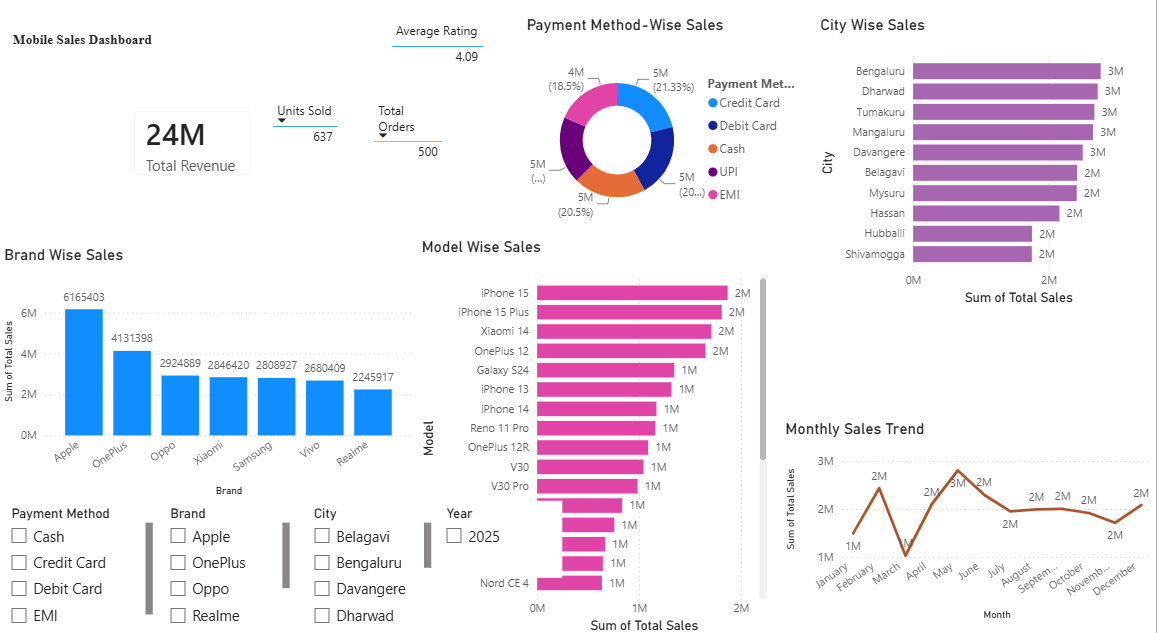

The dashboard page shown, as its layout file describes it:
{"tool":"powerbi","page":{"name":"Page 1","canvas":[1280,720],"ordinal":0},"visuals":[{"type":"cardVisual","fields":{"Data":["Sum(Sales.Total Sales)"]},"box":[216.7,20,177.8,104.4],"z":0},{"type":"tableEx","fields":{"Values":["Sum(Sales.Quantity)"]},"box":[377.8,124.4,78.9,78.9],"z":1000},{"type":"tableEx","fields":{"Values":["Sales.Sale ID"]},"box":[467.8,124.4,90,78.9],"z":2000},{"type":"tableEx","fields":{"Values":["Avg(Sales.Rating)"]},"box":[433.3,0,124.4,100],"z":3000},{"type":"clusteredColumnChart","title":"Brand Wise Sales ","fields":{"Category":["Sales.Brand"],"Y":["Sum(Sales.Total Sales)"]},"box":[10,290,457.8,280],"z":4000},{"type":"lineChart","title":"Monthly Sales Trend","fields":{"Y":["Sum(Sales.Total Sales)"],"Category":["Sales.Date.Variation.Date Hierarchy.Month"]},"box":[867.8,480,412.2,225.6],"z":5000},{"type":"donutChart","title":"Payment Method-Wise Sales","fields":{"Category":["Sales.Payment Method"],"Y":["Sum(Sales.Total Sales)"]},"box":[583.3,0,306.7,280],"z":6000},{"type":"barChart","title":"Model Wise Sales","fields":{"Category":["Sales.Model"],"Y":["Sum(Sales.Total Sales)"]},"box":[467.8,280,388.9,440],"z":7000},{"type":"clusteredBarChart","title":"City Wise Sales","fields":{"Category":["Sales.City"],"Y":["Sum(Sales.Total Sales)"]},"box":[905.6,10,352.2,324.4],"z":8000},{"type":"slicer","fields":{"Values":["Sales.Payment Method"]},"box":[10,570,173.3,150],"z":9000},{"type":"slicer","fields":{"Values":["Sales.Brand"]},"box":[183.3,570,148.9,150],"z":10000},{"type":"slicer","fields":{"Values":["Sales.City"]},"box":[341.1,570,146.7,150],"z":11000},{"type":"slicer","fields":{"Values":["Sales.Date.Variation.Date Hierarchy.Year"]},"box":[487.8,570,140,84.4],"z":12000},{"type":"textbox","box":[0,0,166.7,50],"z":13000}]}

Visuals, with their boxes in screenshot pixels (x1, y1, x2, y2), scaled from the page's 1280x720 canvas onto the 1157x633 screenshot:
cardVisual - Sum(Sales.Total Sales): select_region(196, 18, 357, 109)
tableEx - Sum(Sales.Quantity): select_region(341, 109, 413, 179)
tableEx - Sales.Sale ID: select_region(423, 109, 504, 179)
tableEx - Avg(Sales.Rating): select_region(392, 0, 504, 88)
"Brand Wise Sales " clusteredColumnChart: select_region(9, 255, 423, 501)
"Monthly Sales Trend" lineChart: select_region(784, 422, 1156, 620)
"Payment Method-Wise Sales" donutChart: select_region(527, 0, 804, 246)
"Model Wise Sales" barChart: select_region(423, 246, 774, 632)
"City Wise Sales" clusteredBarChart: select_region(819, 9, 1137, 294)
slicer - Sales.Payment Method: select_region(9, 501, 166, 632)
slicer - Sales.Brand: select_region(166, 501, 300, 632)
slicer - Sales.City: select_region(308, 501, 441, 632)
slicer - Sales.Date.Variation.Date Hierarchy.Year: select_region(441, 501, 567, 575)
textbox: select_region(0, 0, 151, 44)
